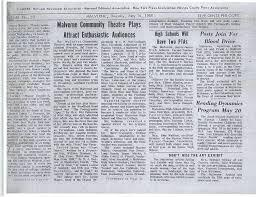Printing industry: (9, 3, 256, 197)
